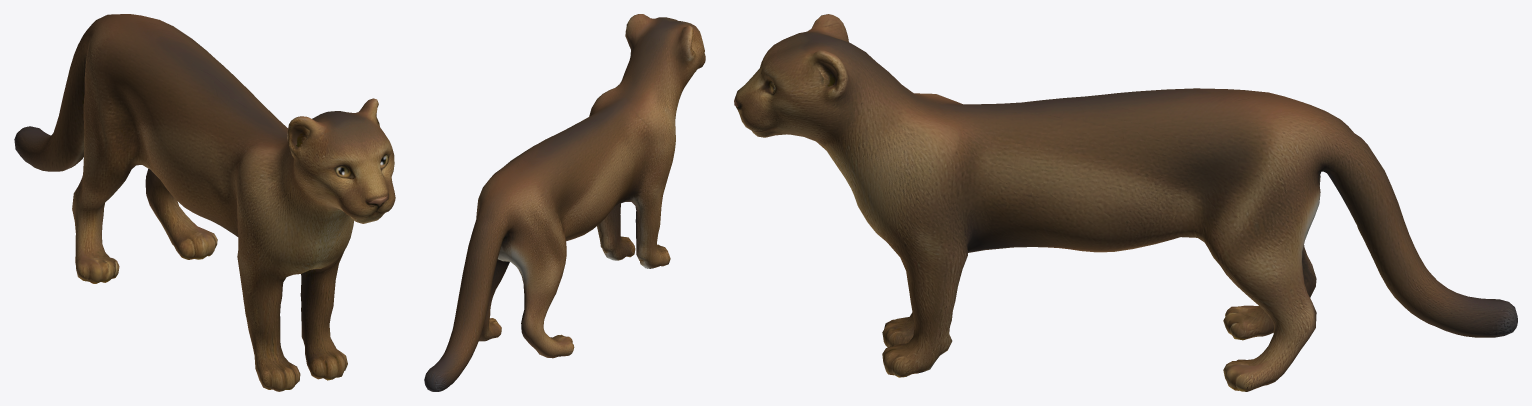
File: nm__margay.glb
The picture shows the model from 3 angles, left to right: view 1: azimuth 30°, elevation 25°; view 2: azimuth 150°, elevation 25°; view 3: azimuth 270°, elevation 25°; orthographic projection. The views are drawn at different scales.
Parts seen in each view (by area): view 1: Object_4; view 2: Object_4; view 3: Object_4.
Boxes of the visible parts, x1,y1,x2,y2 form: Object_4: (14, 14, 395, 391); Object_4: (424, 14, 705, 391); Object_4: (734, 14, 1517, 391).
Size of the model in its own units: 0.4439 by 0.9216 by 2.
Materials: 1 (1 with a texture image).
